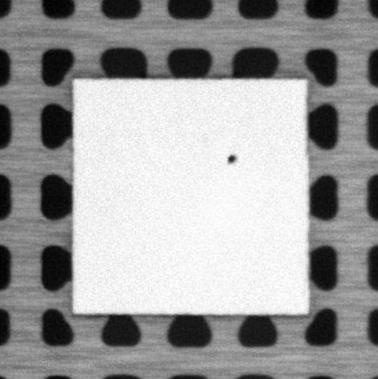DIE_INK: (226, 152, 237, 164)
